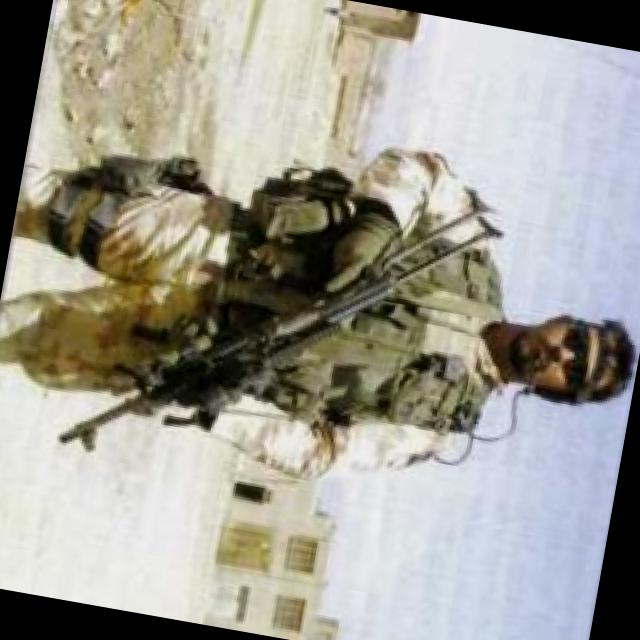long weapon: (31, 116, 506, 538)
